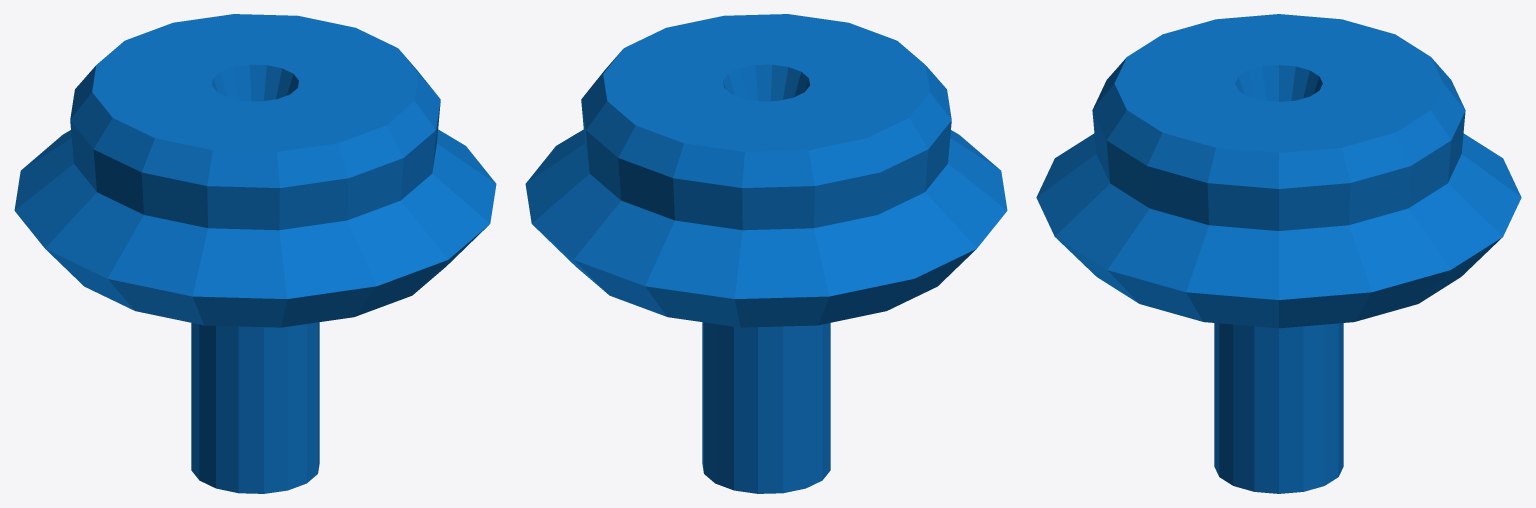
File: Hole_Top.obj
The picture shows the model from 3 angles, left to right: view 1: azimuth 30°, elevation 25°; view 2: azimuth 150°, elevation 25°; view 3: azimuth 270°, elevation 25°; orthographic projection.
Visible parts, largest first — view 1: Hole_Top_Circle; view 2: Hole_Top_Circle; view 3: Hole_Top_Circle.
Part boxes in pixels (bbox=[...]): Hole_Top_Circle: bbox=[14, 14, 496, 493]; Hole_Top_Circle: bbox=[525, 14, 1007, 493]; Hole_Top_Circle: bbox=[1036, 14, 1521, 493].
Bounding box in the file's own units: 3.25 × 2.83 × 3.25.
